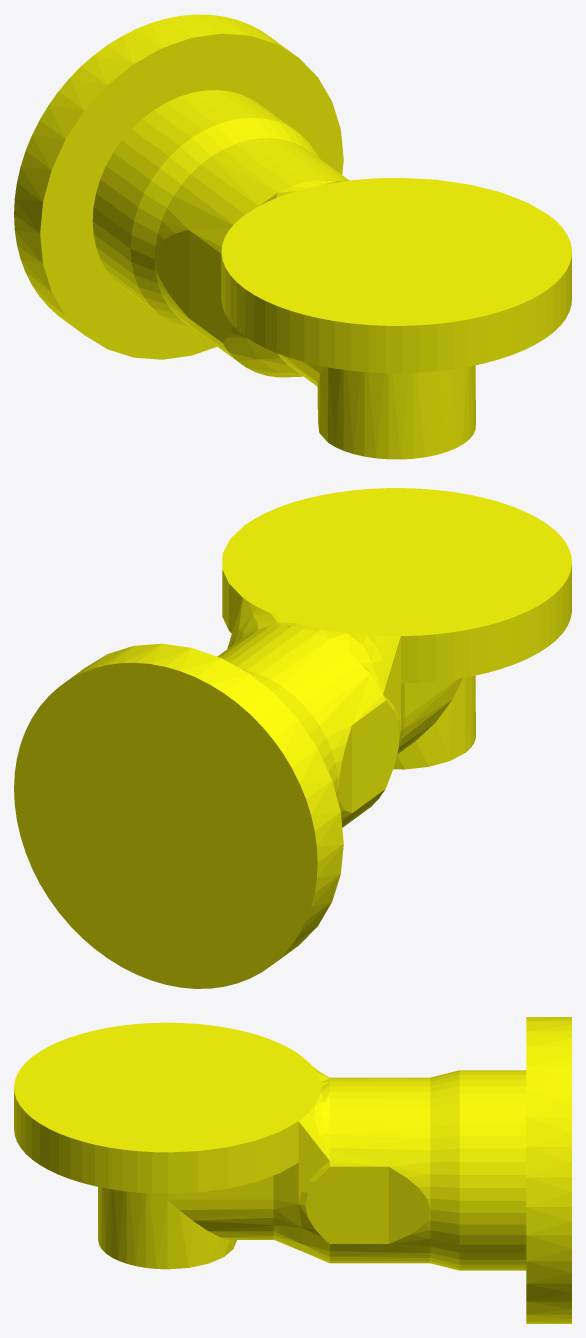
3 views of the same model, one above another, from view 1: azimuth 30°, elevation 25°; view 2: azimuth 150°, elevation 25°; view 3: azimuth 270°, elevation 25° (orthographic). The views are drawn at different scales.
Parts seen in each view (by area): view 1: node; view 2: node; view 3: node.
Boxes of the visible parts, x1,y1,x2,y2 form: node: (14,14,571,459); node: (14,488,571,988); node: (14,1017,571,1323).
Bounding box in the file's own units: 208 × 208 × 378.
